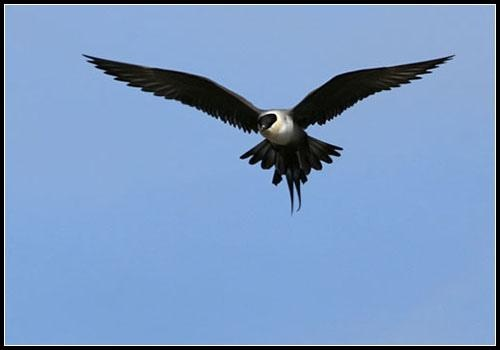bird: (87, 55, 457, 215)
